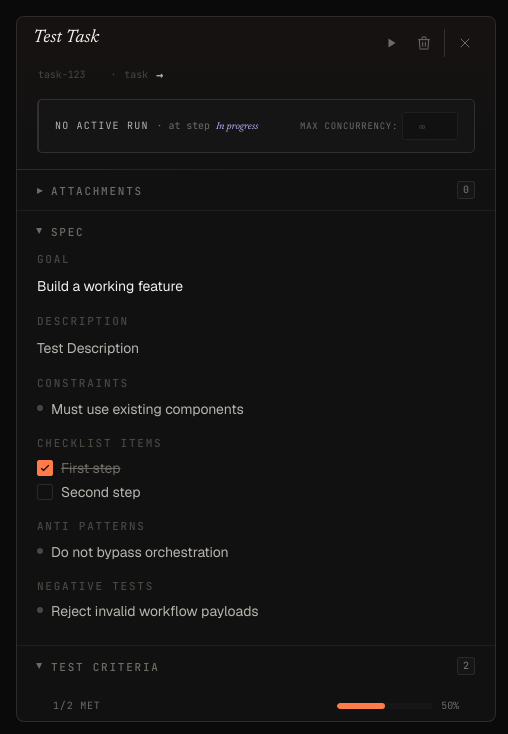
Scenario: TaskDetailPanel - Restructured Layout › Run/Stop orchestration controls (run_controls source of truth) › sends a selected positive concurrency limit and seeds it in the cache
The image size is (508, 734).
Check: the text with test id "task-detail-max-concurrency-label" reads "max concurrency:", box [300,120,398,132]
Type "4" into the number field with test id "task-detail-max-concurrency" at (430, 126), box [402,112,458,140]
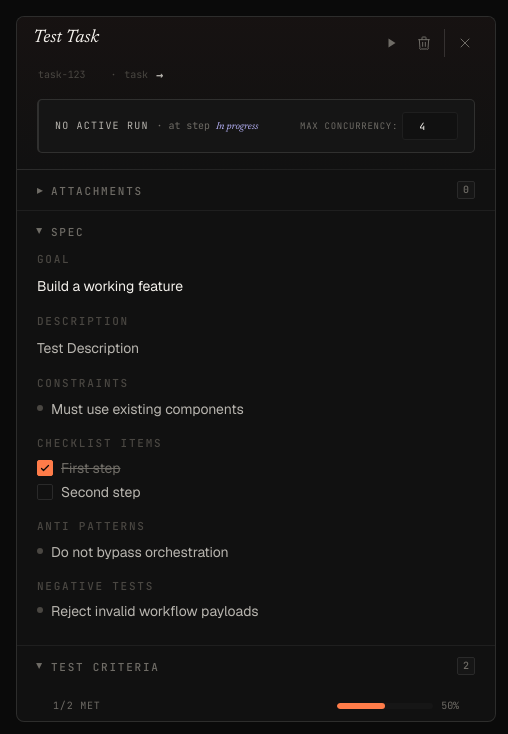
Click the button with test id "task-detail-run-button" at (392, 43), box [378,29,406,57]
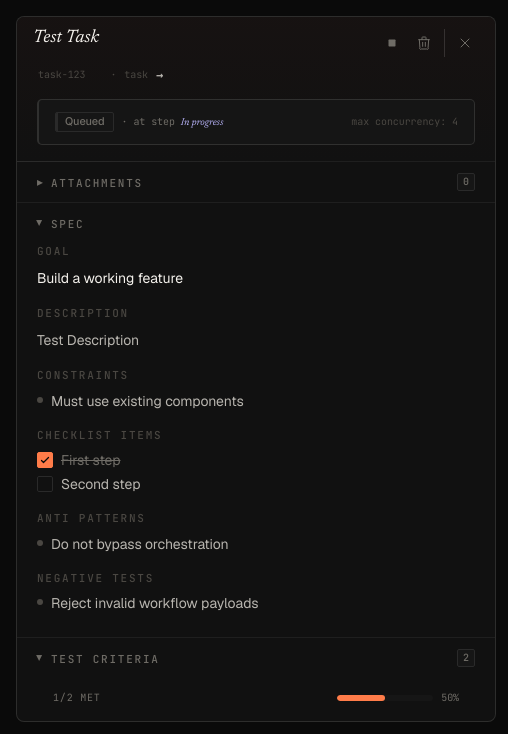
Check: the button with test id "task-detail-stop-button" is shown, box [378,29,406,57]
